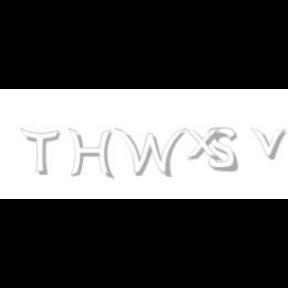H: (68, 128, 114, 180)
S: (208, 128, 240, 172)
T: (20, 128, 60, 176)
W: (114, 128, 186, 178)
v: (250, 128, 288, 160)
x: (184, 128, 226, 162)
